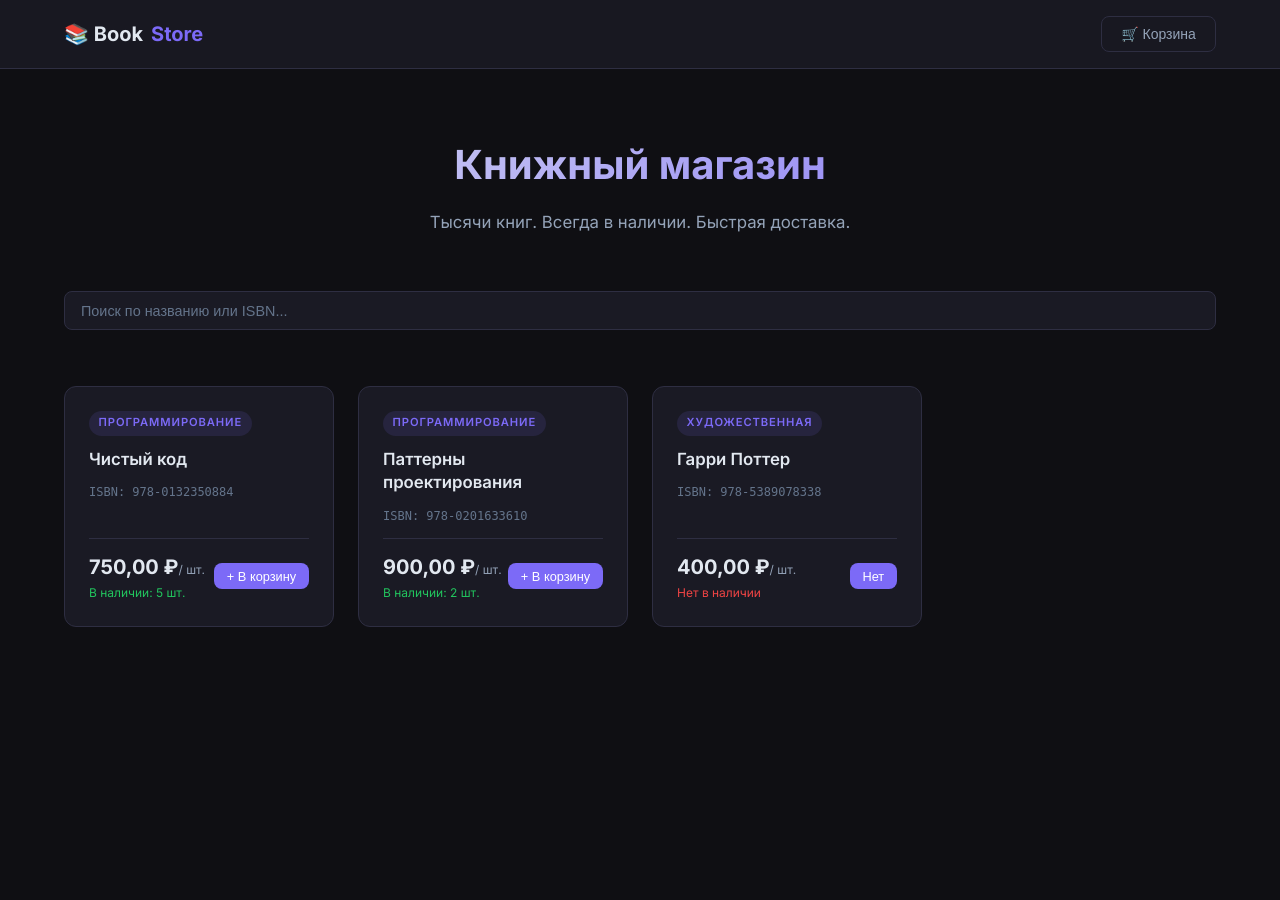
Test: BookList — корзина › значок корзины появляется после добавления товара
Expected: the element with test id "books-grid" is shown, top-left (64, 386), bottom-right (922, 627)
# Добавляем книгу (только первые две — в наличии)
Click the button with test id "add-to-cart-btn" in the row of "В наличии: 5 шт.": (262, 576) top-left (214, 563), bottom-right (309, 590)
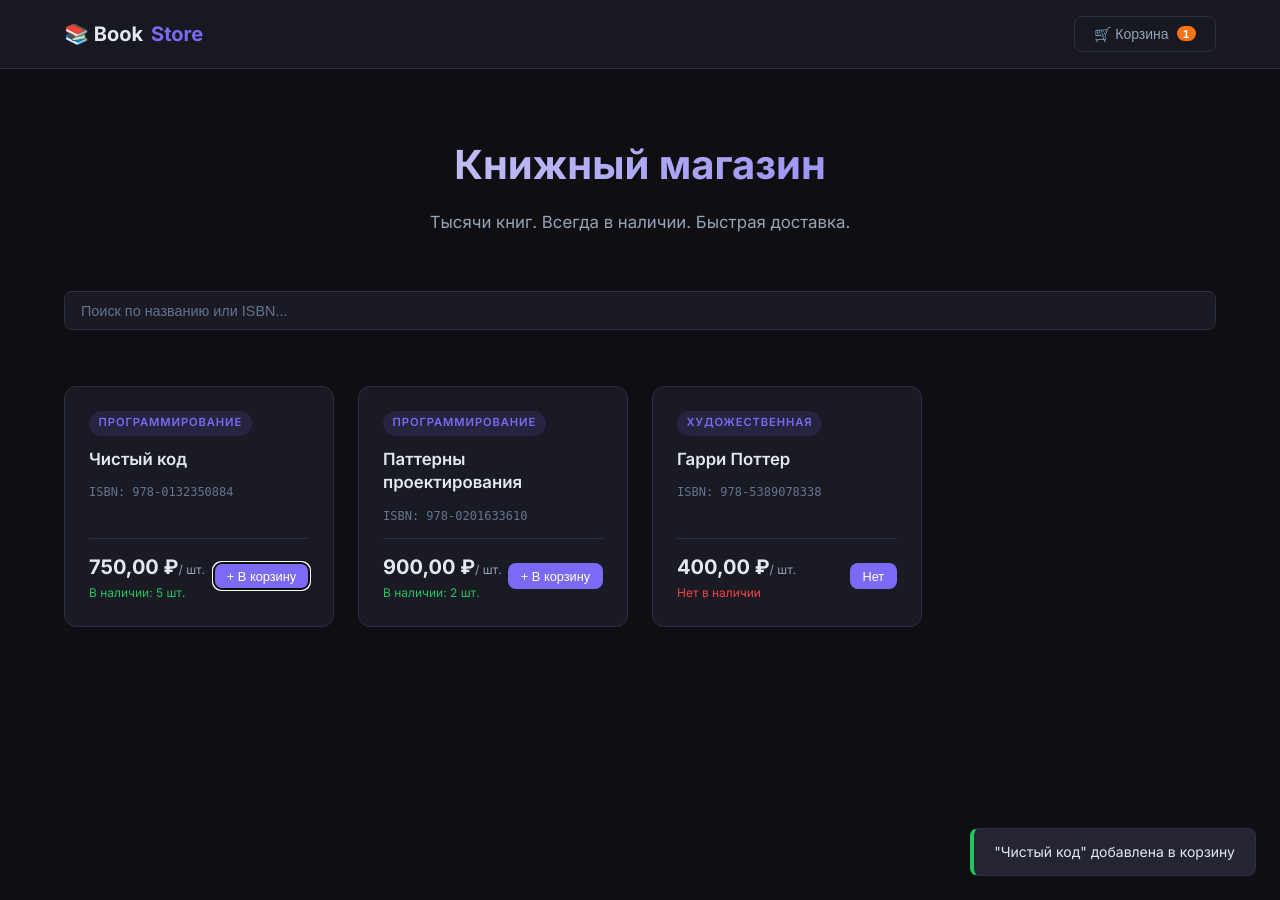
Now the text with test id "cart-count" reads "1", box top-left (1183, 28), bottom-right (1189, 40)
